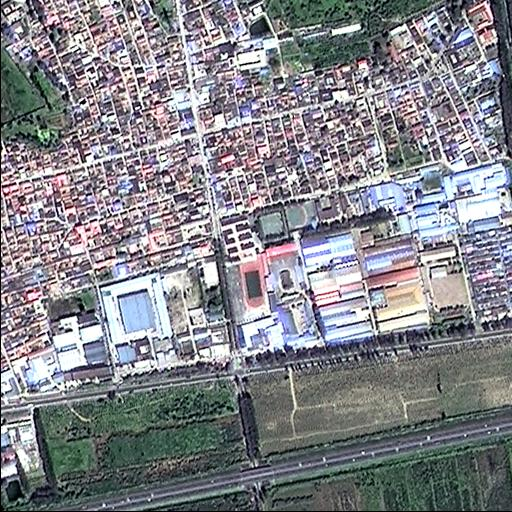school: (219, 204, 311, 324)
